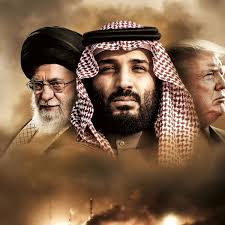middle_eastern_male: (95, 42, 160, 125)
